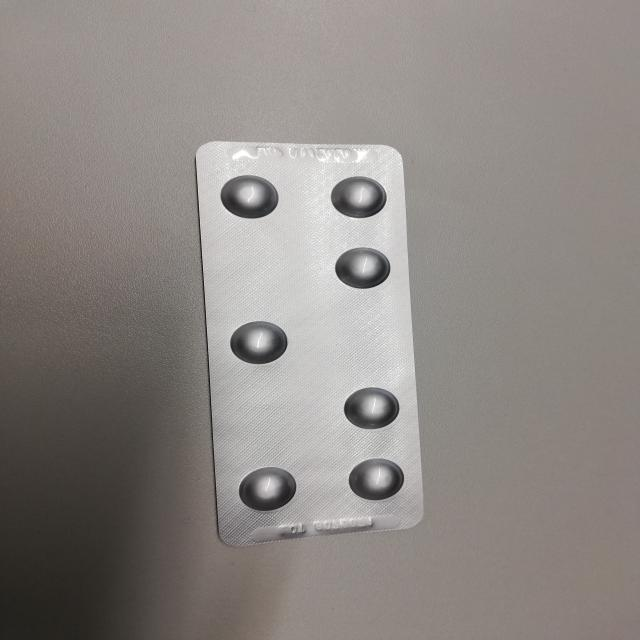Pill: (231, 464, 301, 514), (223, 318, 292, 367), (325, 173, 391, 221), (216, 172, 280, 220), (332, 244, 396, 292), (344, 456, 408, 504), (341, 383, 403, 432)
